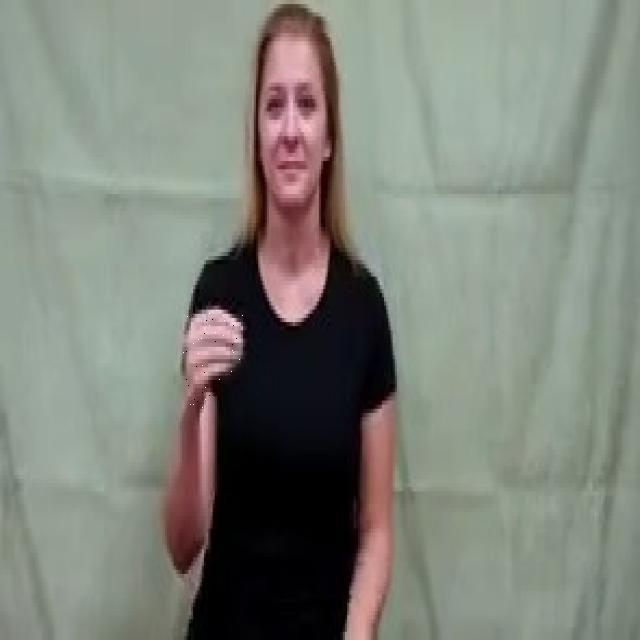ingredients: (182, 300, 244, 410)
